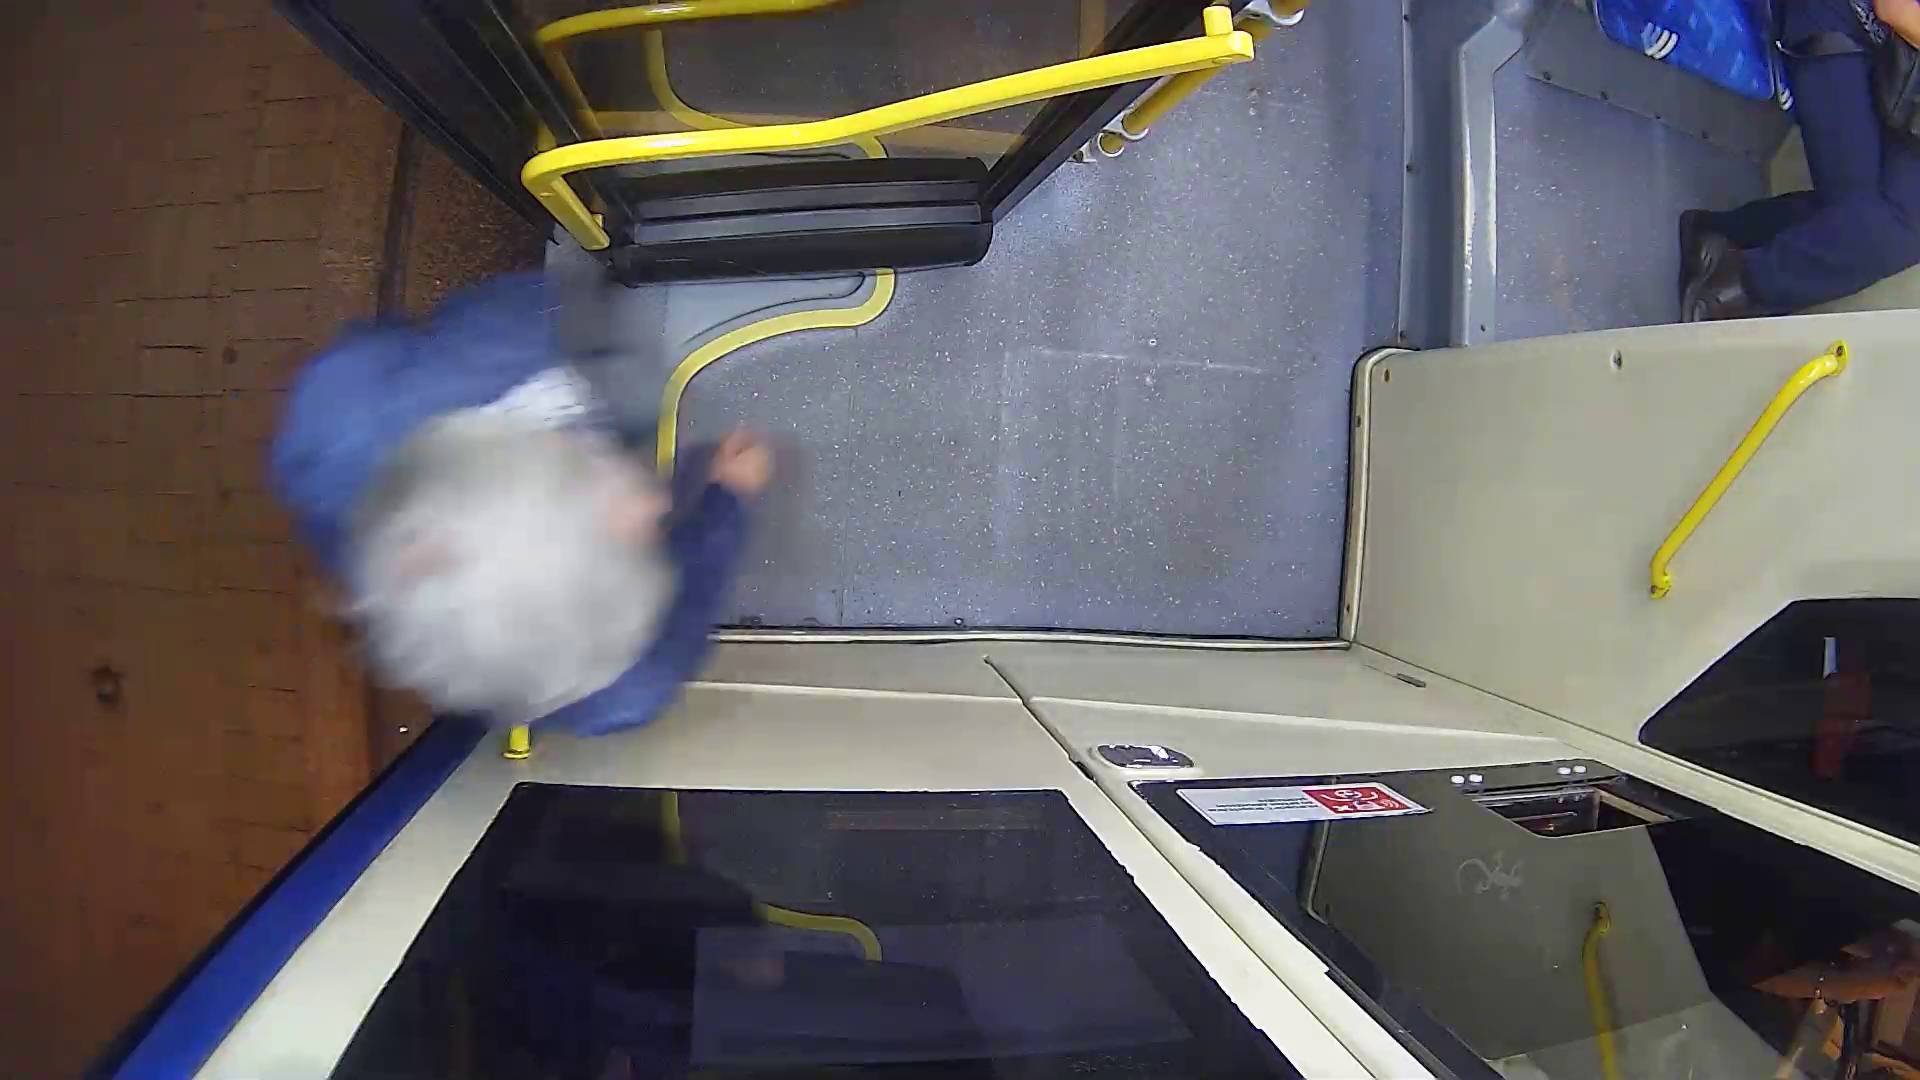person: (282, 277, 886, 745)
